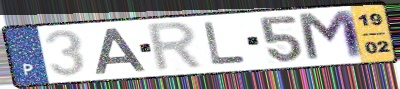3: (43, 28, 89, 79)
5: (256, 14, 305, 64)
A: (93, 26, 149, 76)
L: (202, 20, 249, 68)
M: (294, 8, 368, 64)
R: (146, 20, 207, 74)
